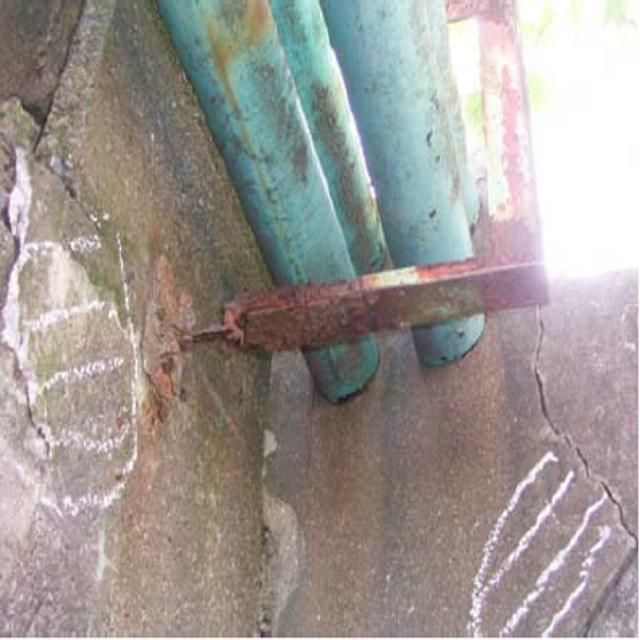corrosion: (228, 200, 503, 399)
crack: (527, 300, 637, 596)
spalling: (126, 238, 201, 443)
